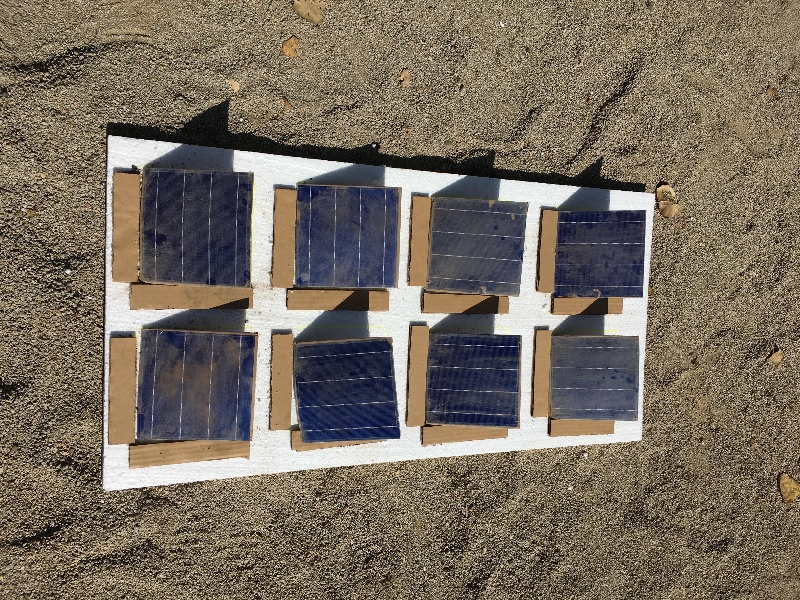clean: (293, 343, 403, 440)
dirty: (136, 327, 254, 443), (424, 198, 526, 292), (551, 335, 642, 421)
semi: (137, 168, 252, 289), (296, 184, 401, 291), (421, 332, 522, 427), (558, 209, 645, 300)
